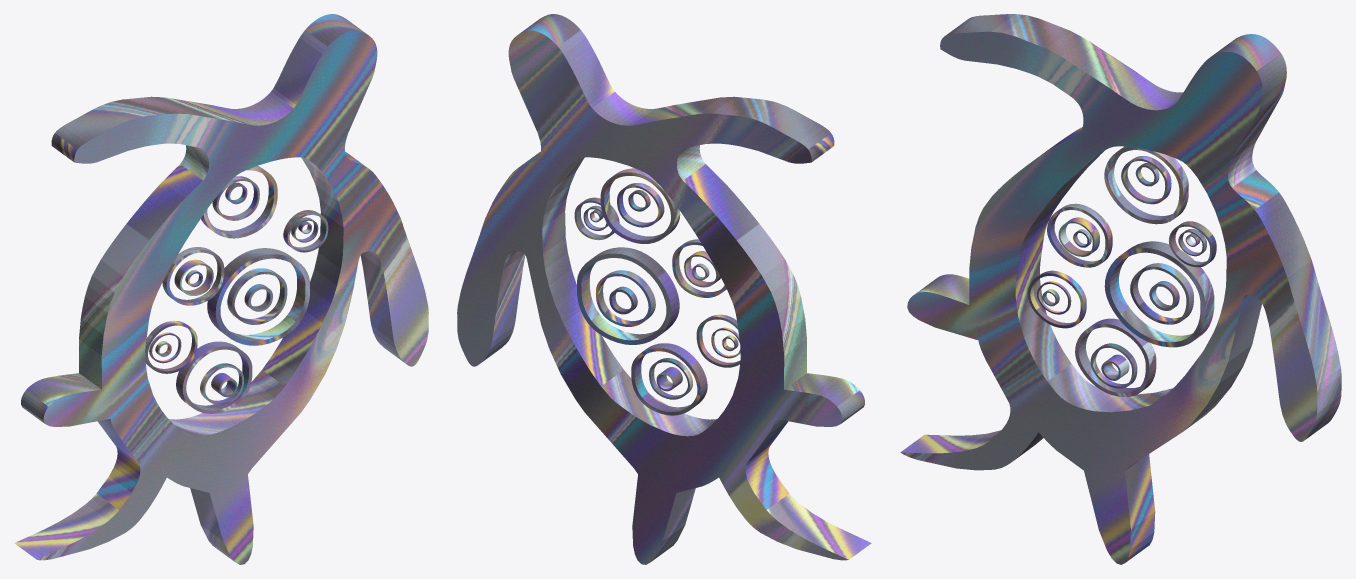
File: asset.glb
3 views of the same model, side by side, from view 1: azimuth 30°, elevation 25°; view 2: azimuth 150°, elevation 25°; view 3: azimuth 330°, elevation 25° (orthographic). The views are drawn at different scales.
Visible parts, largest first — view 1: Curve; view 2: Curve; view 3: Curve.
Boxes of the visible parts, x1,y1,x2,y2 form: Curve: (14, 14, 428, 564); Curve: (457, 14, 871, 564); Curve: (900, 14, 1341, 564).
Size of the model in its own units: 2.64 by 3.26 by 0.2659.
1 material, 1 textured.
